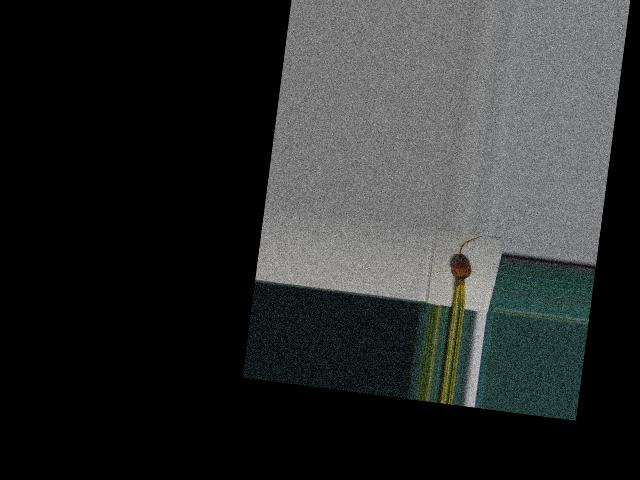beet: (445, 232, 481, 310)
